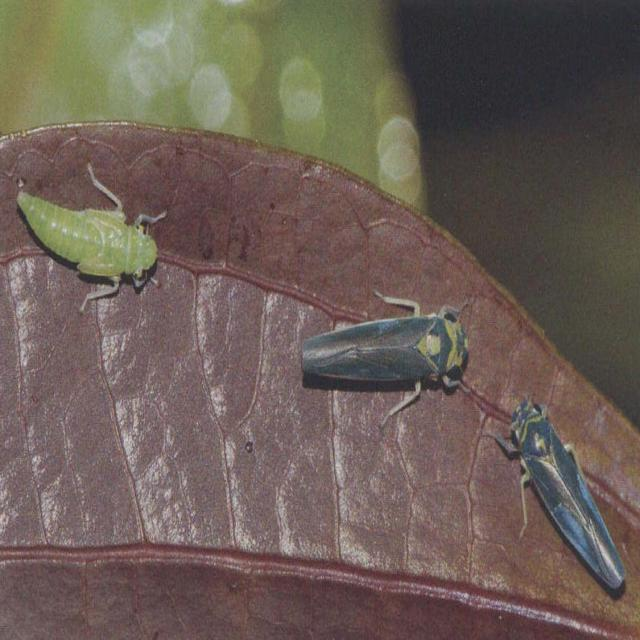Yechan: (486, 377, 625, 601), (300, 286, 476, 418)
